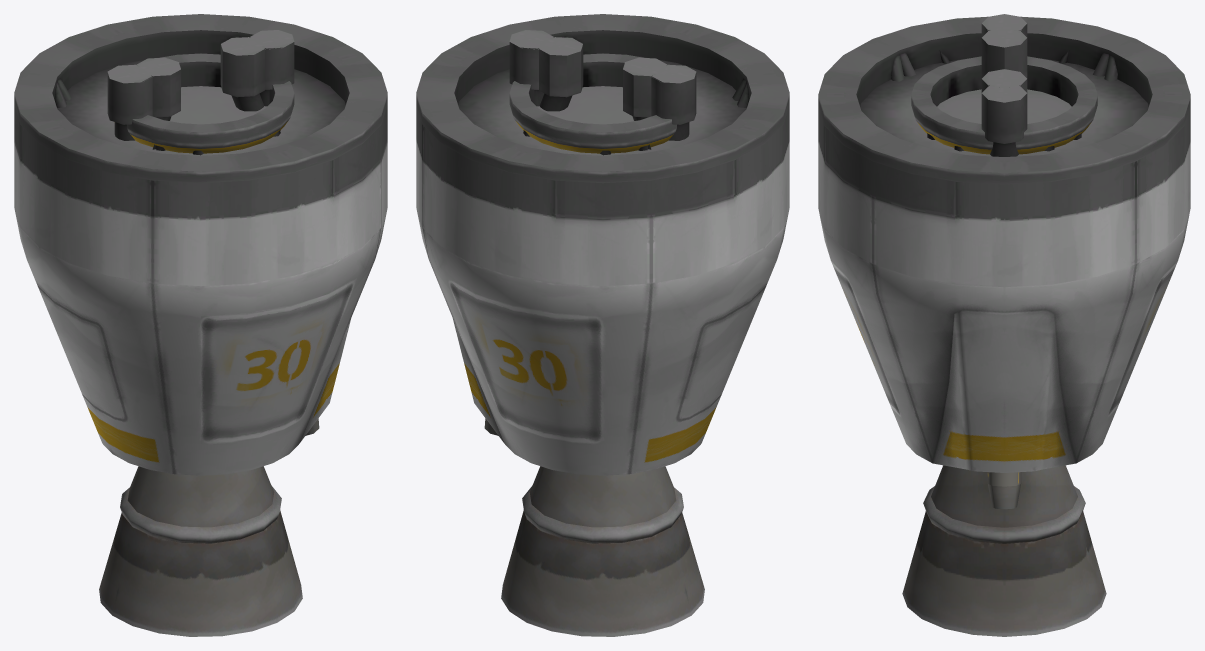
Rendered from lvt30.FBX.
3 views of the same model, side by side, from view 1: azimuth 30°, elevation 25°; view 2: azimuth 150°, elevation 25°; view 3: azimuth 270°, elevation 25° (orthographic).
Visible parts, largest first — view 1: BoatTailEngineMesh, CompactFrameMesh, StandardEngineMesh; view 2: BoatTailEngineMesh, CompactFrameMesh, StandardEngineMesh; view 3: BoatTailEngineMesh, StandardEngineMesh, CompactFrameMesh.
Part boxes in pixels (left/top/right/bottom): BoatTailEngineMesh: left=14, top=14, right=387, bottom=475; CompactFrameMesh: left=99, top=37, right=313, bottom=636; StandardEngineMesh: left=14, top=14, right=387, bottom=631; BoatTailEngineMesh: left=416, top=14, right=789, bottom=475; CompactFrameMesh: left=490, top=37, right=704, bottom=636; StandardEngineMesh: left=416, top=14, right=789, bottom=631; BoatTailEngineMesh: left=818, top=16, right=1190, bottom=472; StandardEngineMesh: left=818, top=14, right=1190, bottom=636; CompactFrameMesh: left=911, top=28, right=1097, bottom=502.
Size of what is drawn, in the model's own units: 1.25 by 1.98 by 1.25.
1 material, 1 textured.
